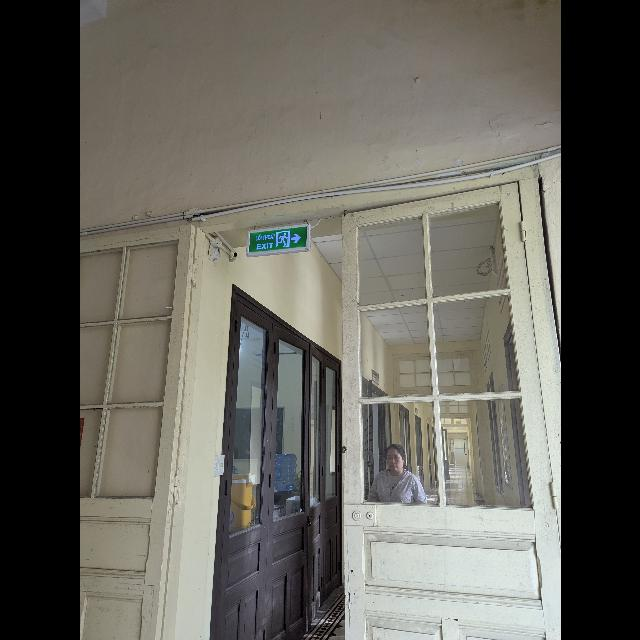exit: (245, 224, 310, 257)
